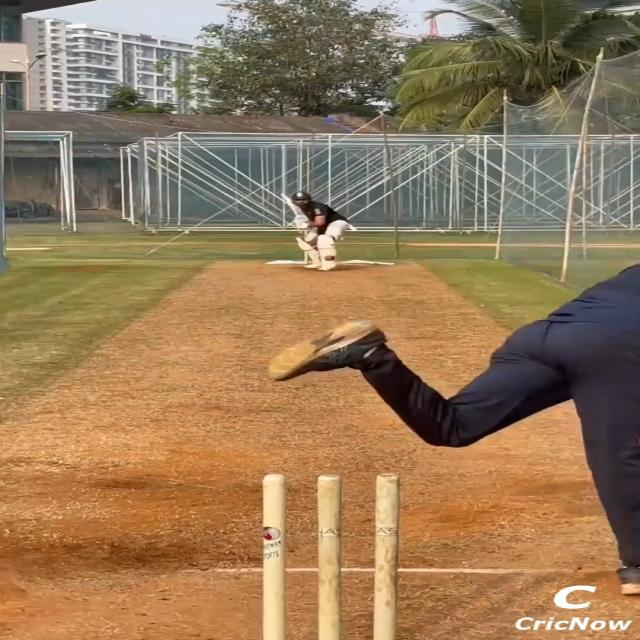ball: (324, 255, 336, 261)
stump: (261, 472, 400, 640)
